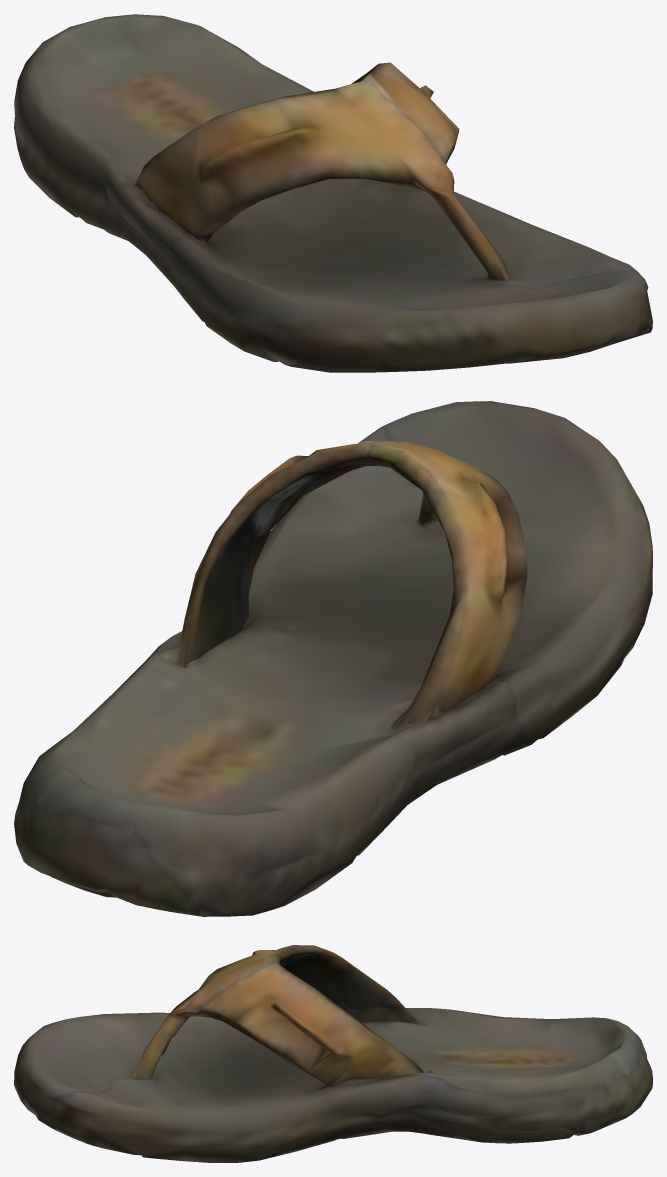
Rendered from Mens_Santa_Cruz_Thong_in_Tan_r59C69daRPh-medium.glb.
3 views of the same model, one above another, from view 1: azimuth 30°, elevation 25°; view 2: azimuth 150°, elevation 25°; view 3: azimuth 270°, elevation 25° (orthographic). The views are drawn at different scales.
Parts seen in each view (by area): view 1: Mens_Santa_Cruz_Thong_in_Tan_r59C69daRPh; view 2: Mens_Santa_Cruz_Thong_in_Tan_r59C69daRPh; view 3: Mens_Santa_Cruz_Thong_in_Tan_r59C69daRPh.
Boxes of the visible parts, x1,y1,x2,y2 form: Mens_Santa_Cruz_Thong_in_Tan_r59C69daRPh: [14, 14, 652, 372]; Mens_Santa_Cruz_Thong_in_Tan_r59C69daRPh: [14, 401, 652, 916]; Mens_Santa_Cruz_Thong_in_Tan_r59C69daRPh: [14, 945, 652, 1162].
Bounding box in the file's own units: 0.1196 × 0.08 × 0.2931.
1 material, 1 textured.
